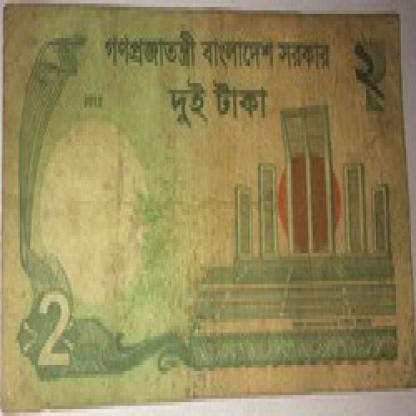two taka: (30, 277, 72, 406), (356, 28, 403, 121)
